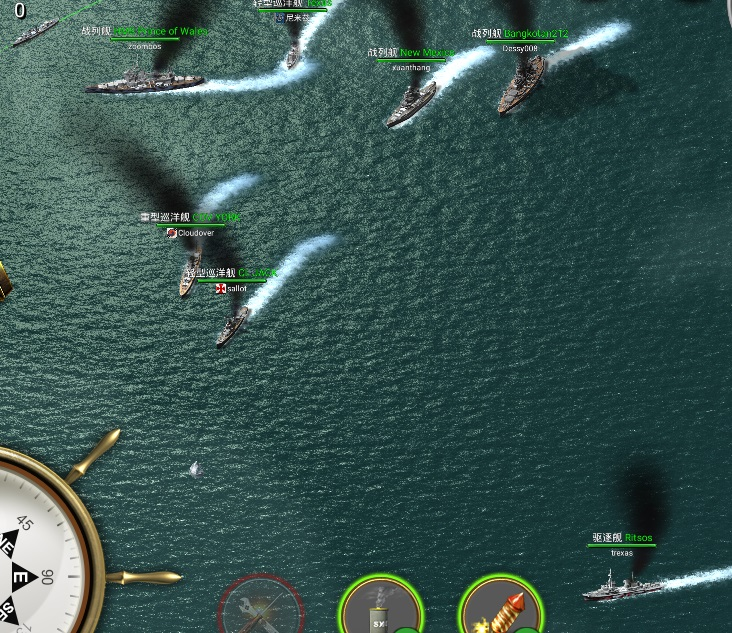ship: (90, 68, 212, 98), (493, 46, 548, 112), (383, 78, 439, 128), (581, 579, 668, 607), (175, 242, 207, 300), (211, 305, 253, 347), (15, 17, 62, 48), (282, 35, 303, 74)
